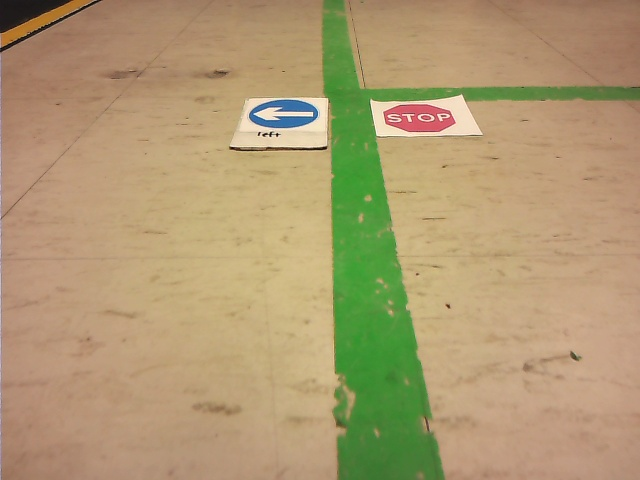STOP: (385, 104, 455, 131)
TURN LEFT: (249, 99, 318, 127)
